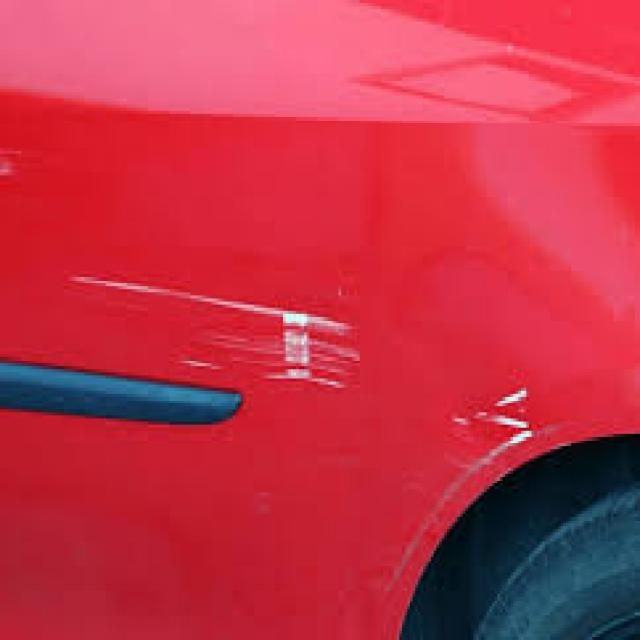minor: (62, 256, 556, 489)
